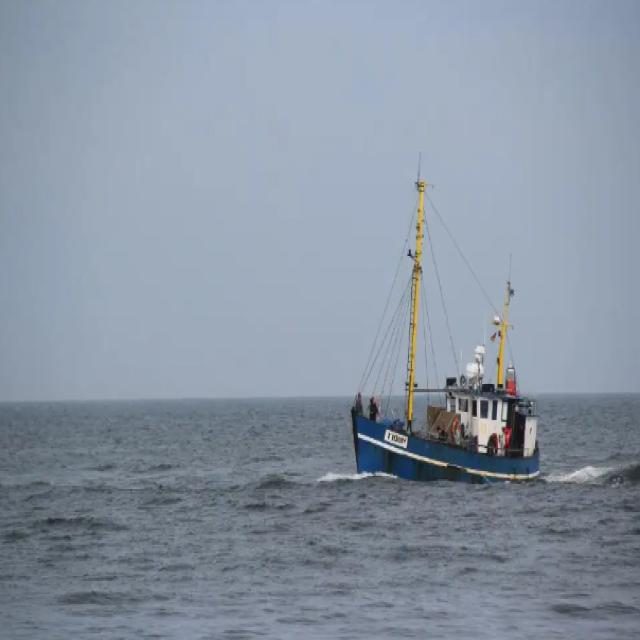fishing boat: (346, 167, 540, 480)
